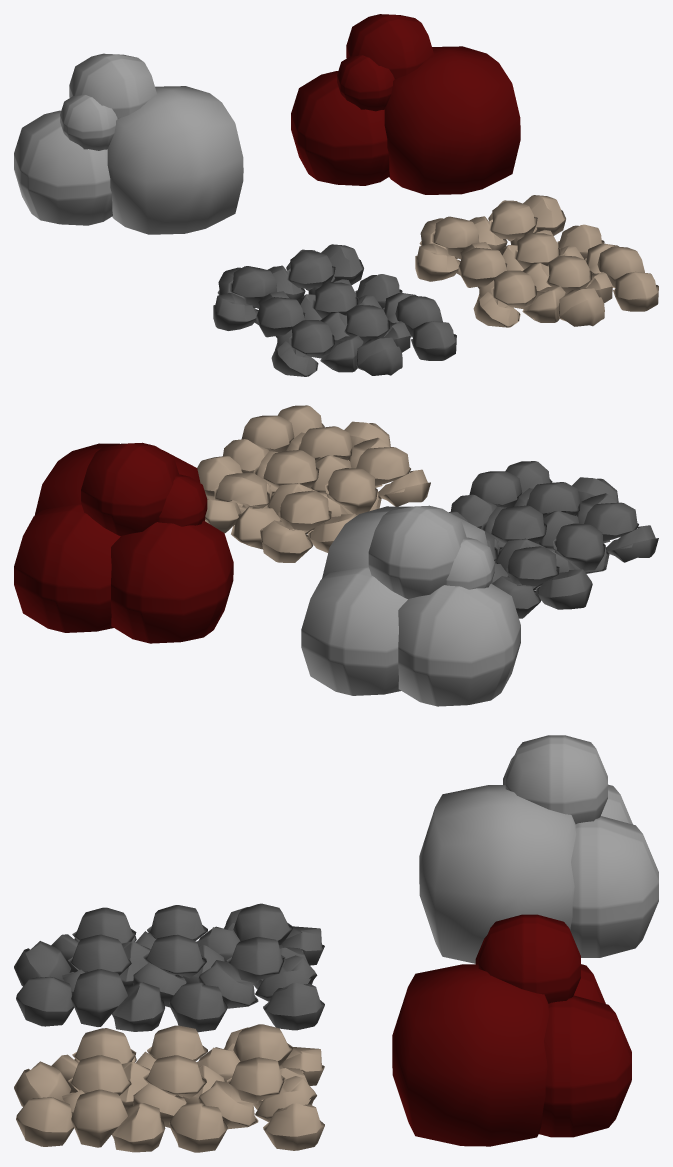
File: rock_pattern.fbx
3 views of the same model, one above another, from view 1: azimuth 30°, elevation 25°; view 2: azimuth 150°, elevation 25°; view 3: azimuth 270°, elevation 25° (orthographic). The views are drawn at different scales.
Visible parts, largest first — view 1: pasted__smal_rock10, pasted__smal_rock9, pCube28, pCube27; view 2: pasted__smal_rock9, pasted__smal_rock10, pCube28, pCube27; view 3: pasted__smal_rock9, pasted__smal_rock10, pCube28, pCube27.
Boxes of the visible parts, left/top/right/bottom form: pasted__smal_rock10: left=14, top=53, right=243, bottom=234; pasted__smal_rock9: left=291, top=14, right=520, bottom=194; pCube28: left=415, top=195, right=658, bottom=327; pCube27: left=213, top=244, right=456, bottom=376; pasted__smal_rock9: left=14, top=442, right=233, bottom=643; pasted__smal_rock10: left=301, top=505, right=520, bottom=706; pCube28: left=197, top=405, right=430, bottom=562; pCube27: left=449, top=461, right=658, bottom=618; pasted__smal_rock9: left=392, top=914, right=631, bottom=1146; pasted__smal_rock10: left=419, top=735, right=658, bottom=963; pCube28: left=14, top=1024, right=324, bottom=1152; pCube27: left=14, top=903, right=324, bottom=1032.
Size of the model in its own units: 21.33 by 8.01 by 21.99.
